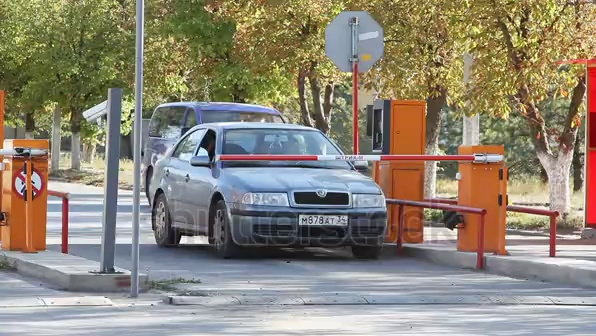licenseplate: (299, 211, 354, 231)
